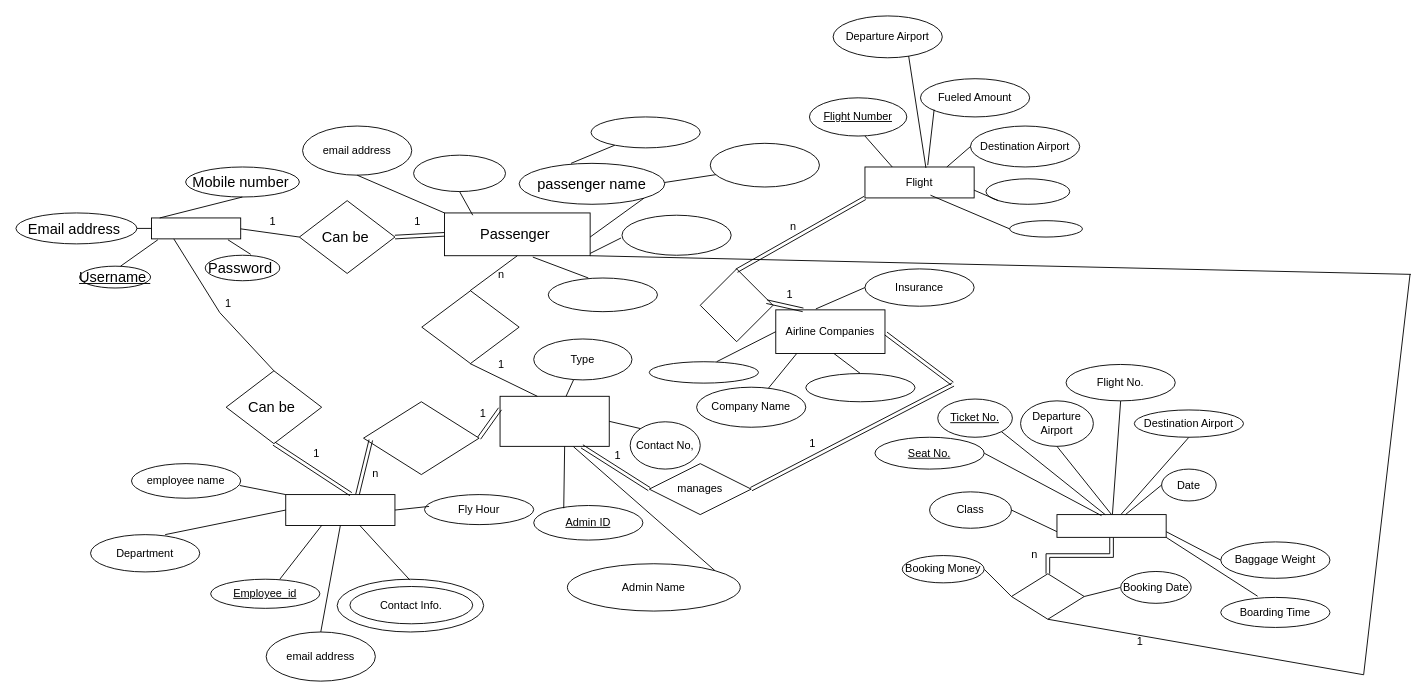
Image size: 1428x697. Some labels were removed from this diagram. The shapes that lost their labels are listed below. From the top down, each one's box as (x1, y1, x2, y2) in pixels, then its label:
(590, 116, 700, 148): First Name
(413, 154, 506, 192): NID
(709, 142, 819, 187): Last Name
(985, 178, 1070, 204): Capacity
(151, 217, 241, 239): User
(621, 214, 731, 255): passport number
(1009, 220, 1082, 237): Time
(547, 277, 657, 312): nationality
(699, 268, 773, 342): has
(421, 290, 519, 364): Inquires
(648, 361, 758, 383): Net Worth
(805, 373, 915, 402): License No.
(363, 401, 479, 475): responses/replies enquires
(499, 395, 609, 446): Help Desk Management
(285, 494, 395, 526): Employee
(1056, 514, 1166, 537): Tickets
(1011, 573, 1084, 619): Books
